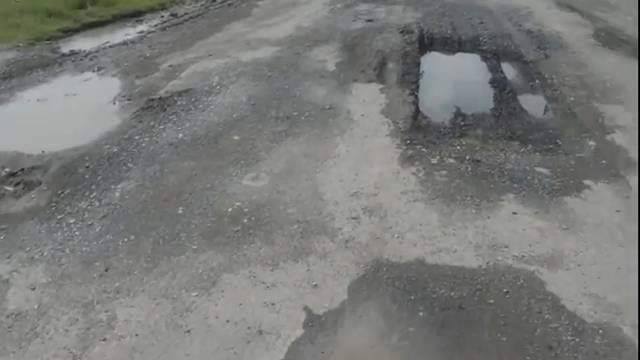pothole: (469, 251, 571, 360)
